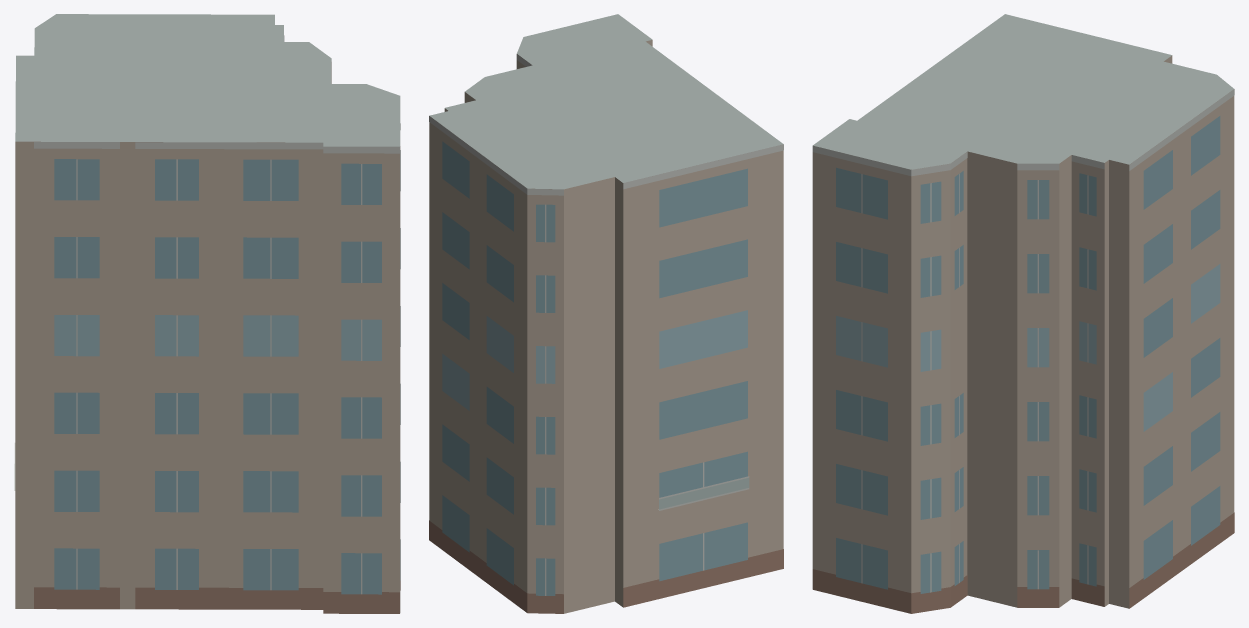
Rendered from survey-upis-32741056.glb.
3 views of the same model, side by side, from view 1: azimuth 30°, elevation 25°; view 2: azimuth 150°, elevation 25°; view 3: azimuth 270°, elevation 25° (orthographic). The views are drawn at different scales.
Visible parts, largest first — view 1: survey-upis-32741056.tmp; view 2: survey-upis-32741056.tmp; view 3: survey-upis-32741056.tmp.
Part boxes in pixels (x1,y1,x2,y2): survey-upis-32741056.tmp: (14,14,400,613); survey-upis-32741056.tmp: (429,14,783,613); survey-upis-32741056.tmp: (812,14,1234,613).
Size of the model in its own units: 12.5 by 16.6 by 14.3.
